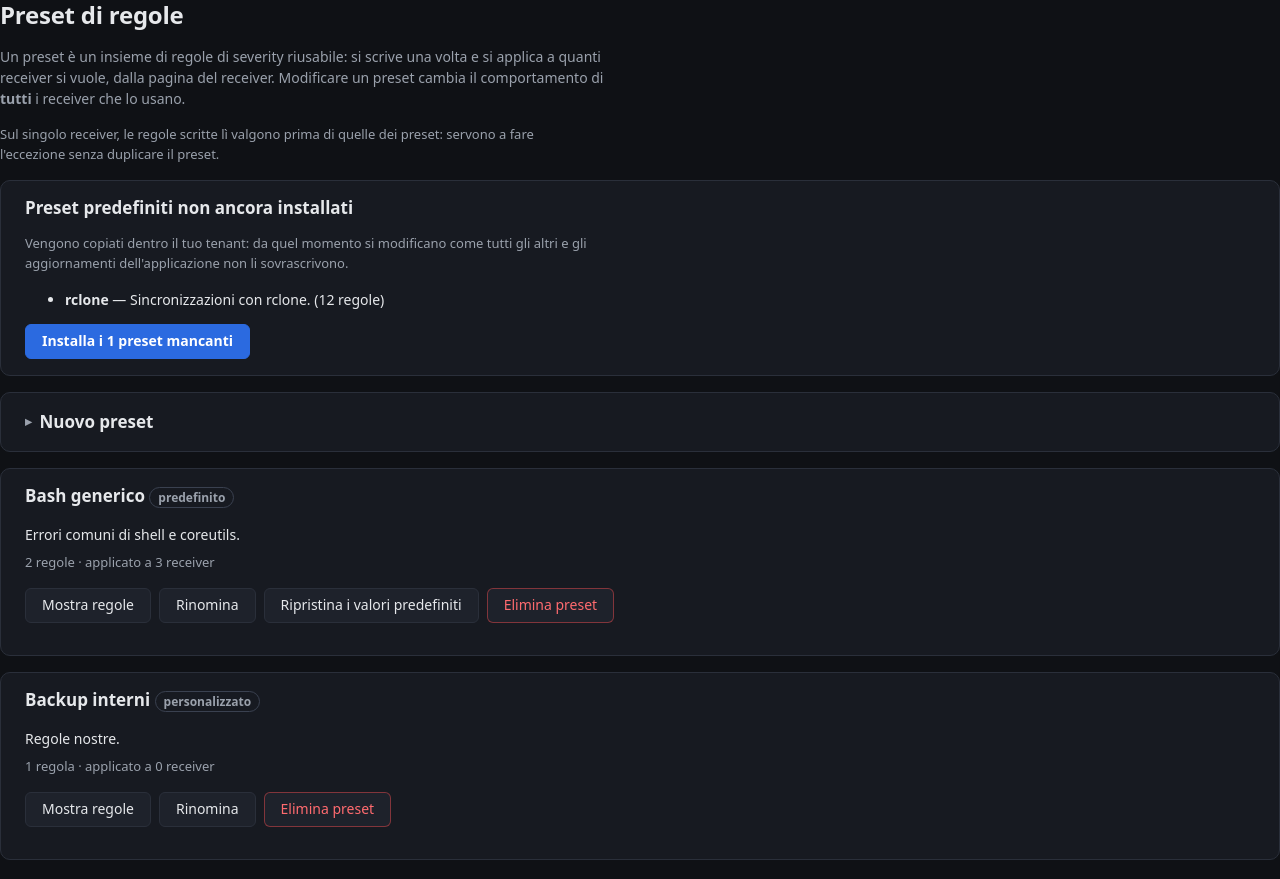
Test: PresetsPage › un riordino fatto altrove nel frattempo non viene riportato indietro
This screenshot has width=1280, height=879.
Expected: the heading "Bash generico predefinito" is shown, [25,484,234,508]
Click the button "Mostra regole" below "Errori comuni di shell e coreutils." at (88, 605), box [25,588,151,623]
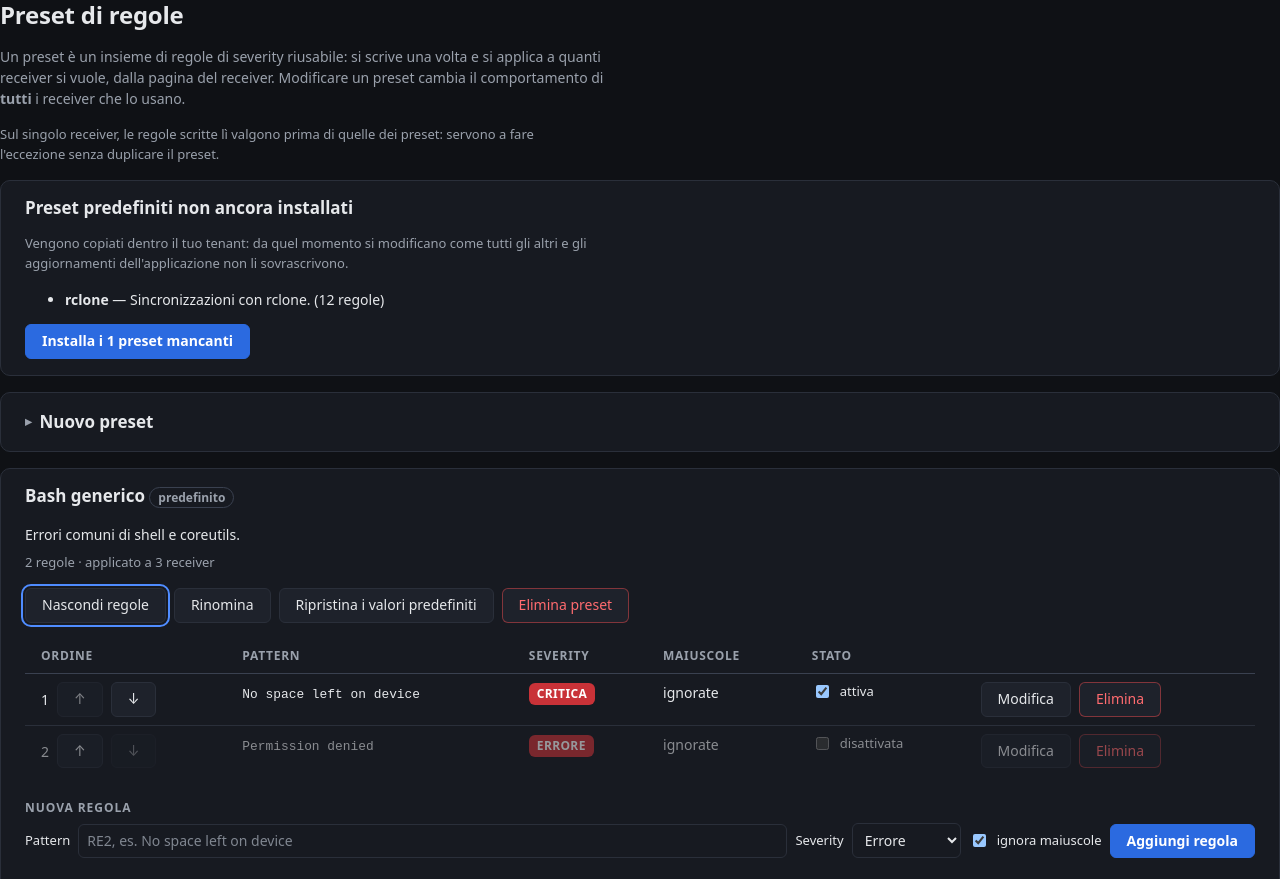
Click the button named "Sposta giù No space left on device" at (134, 699), box [111,682,156,717]
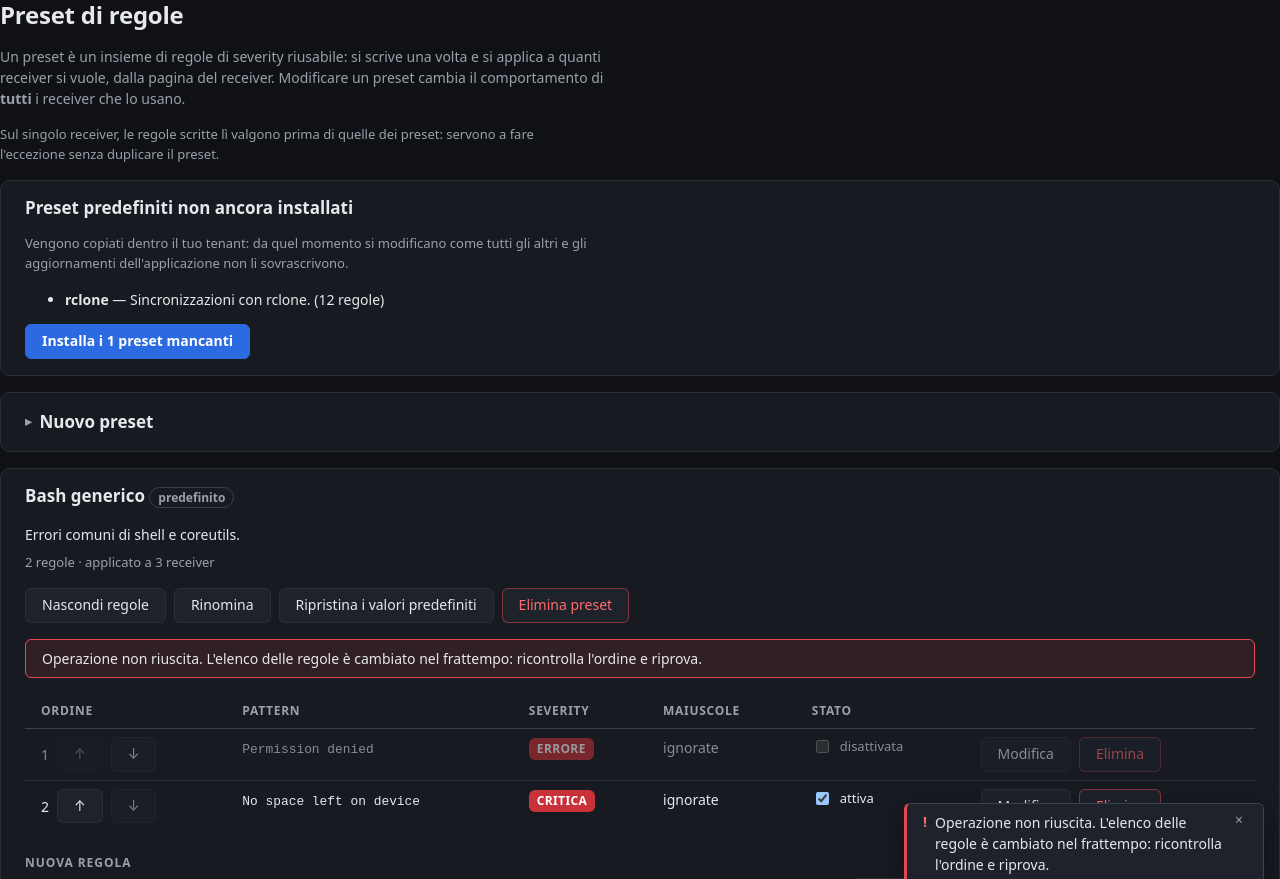
Expected: the text "cambiato nel frattempo" is shown, [206,649,702,668]
